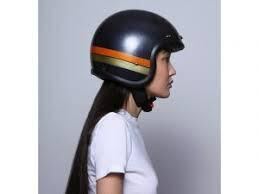helmet: (89, 9, 185, 98)
